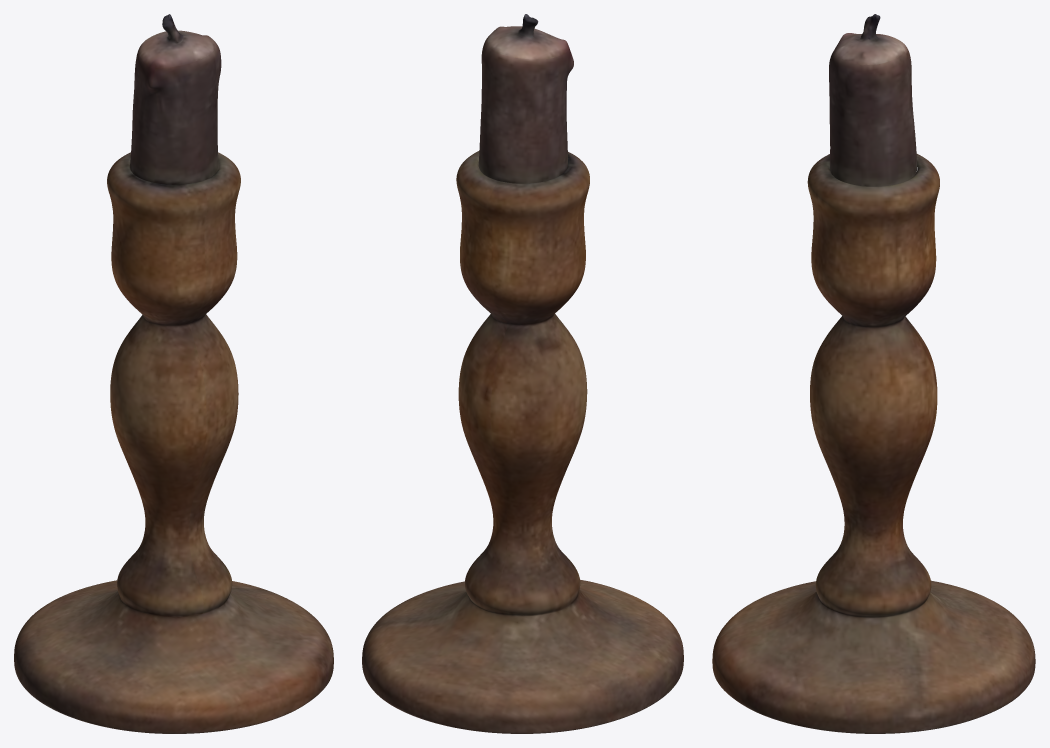
Rendered from wooden_candlestick.glb.
3 renders of one model, left to right at view 1: azimuth 30°, elevation 25°; view 2: azimuth 150°, elevation 25°; view 3: azimuth 270°, elevation 25°, orthographic.
Bounding box in the file's own units: 0.0972 × 0.2197 × 0.0987.
Materials: 1 (1 with a texture image).
